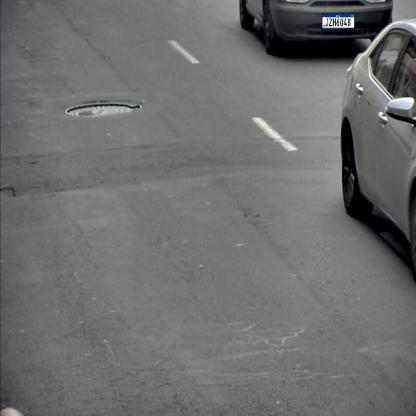PlacaM: (322, 13, 355, 29)
